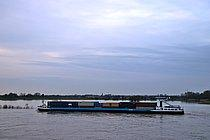Ship: (36, 93, 187, 119)
